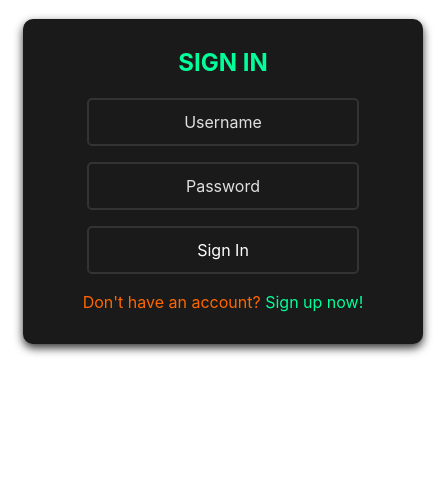
Test case: SignInForm Component › displays non-field errors from the API
Step 1. Type "wronguser" into the field with placeholder "Username" → (223, 122), box [87, 98, 359, 146]
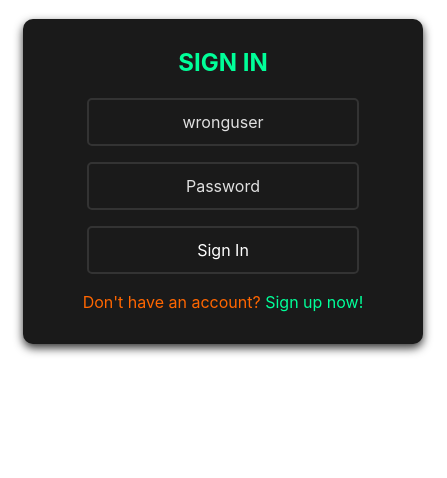
Step 2. Type "wrongpassword" into the password field with placeholder "Password" → (223, 186), box [87, 162, 359, 210]
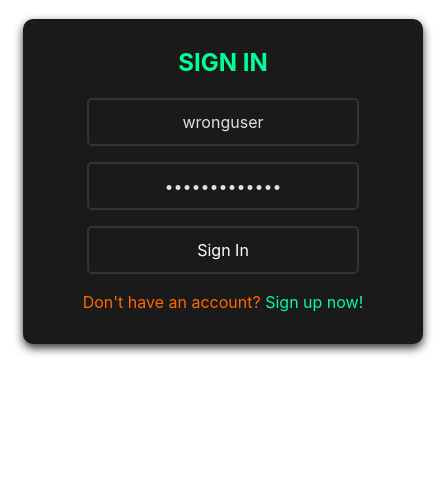
Step 3. Click the button "Sign In" → (223, 250), box [87, 226, 359, 274]
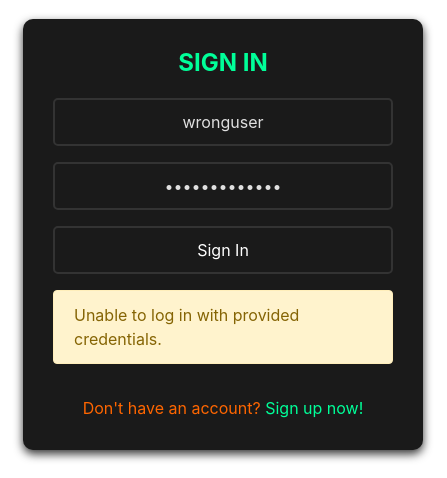
Now the text "Unable to log in with provided credentials." is shown, box [53, 290, 393, 364]
